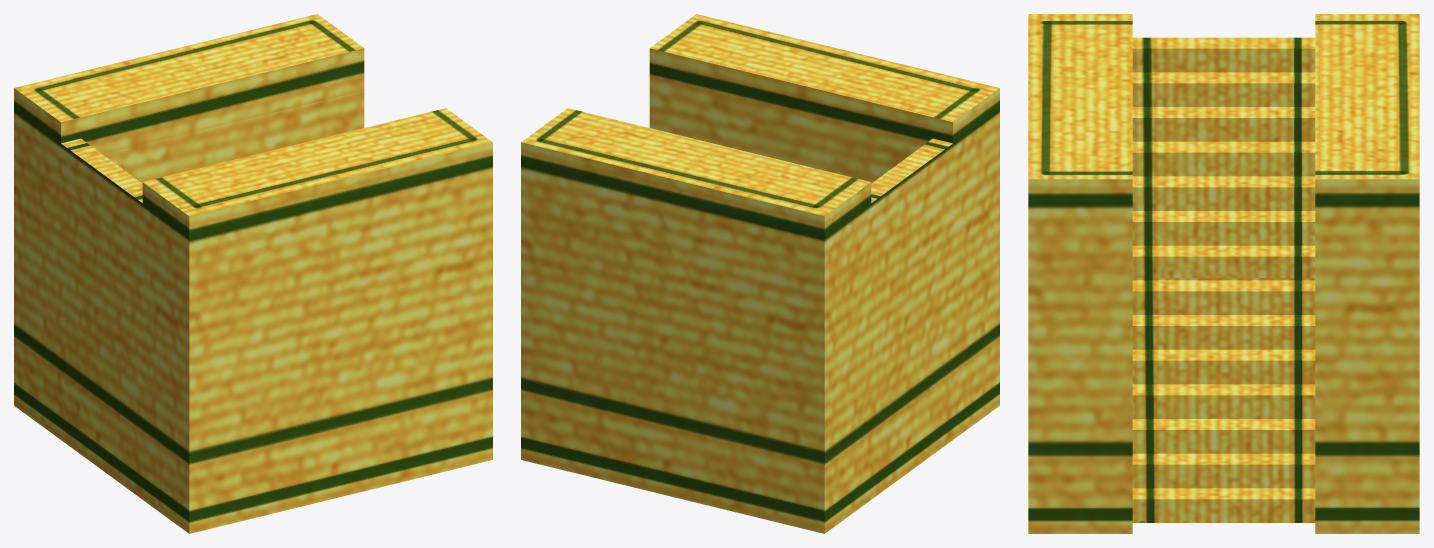
File: 4x4 Stairs Middle.fbx
The picture shows the model from 3 angles, left to right: view 1: azimuth 30°, elevation 25°; view 2: azimuth 150°, elevation 25°; view 3: azimuth 270°, elevation 25°; orthographic projection. The views are drawn at different scales.
Parts seen in each view (by area): view 1: 4x4 Stairs Middle; view 2: 4x4 Stairs Middle; view 3: 4x4 Stairs Middle.
Part boxes in pixels (x1=…): 4x4 Stairs Middle: x1=14, y1=14, x2=492, y2=533; 4x4 Stairs Middle: x1=521, y1=14, x2=999, y2=533; 4x4 Stairs Middle: x1=1028, y1=14, x2=1419, y2=533.
Bounding box in the file's own units: 400 × 400 × 400.
Materials: 1 (1 with a texture image).
